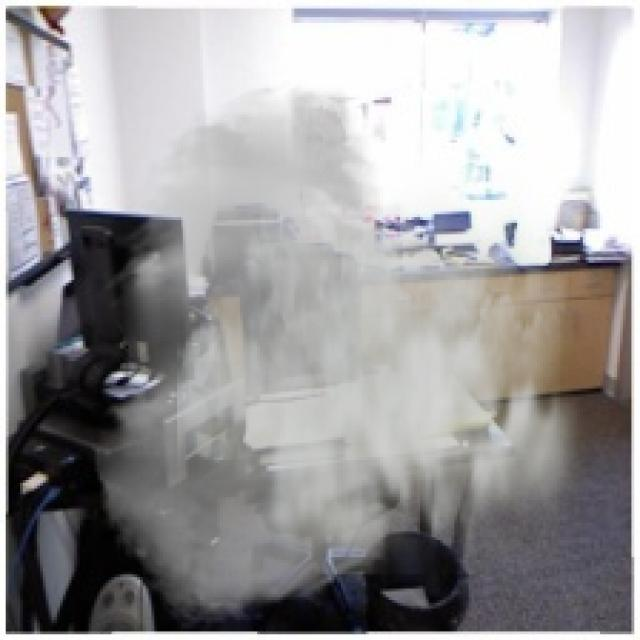smoke: (91, 80, 606, 629)
